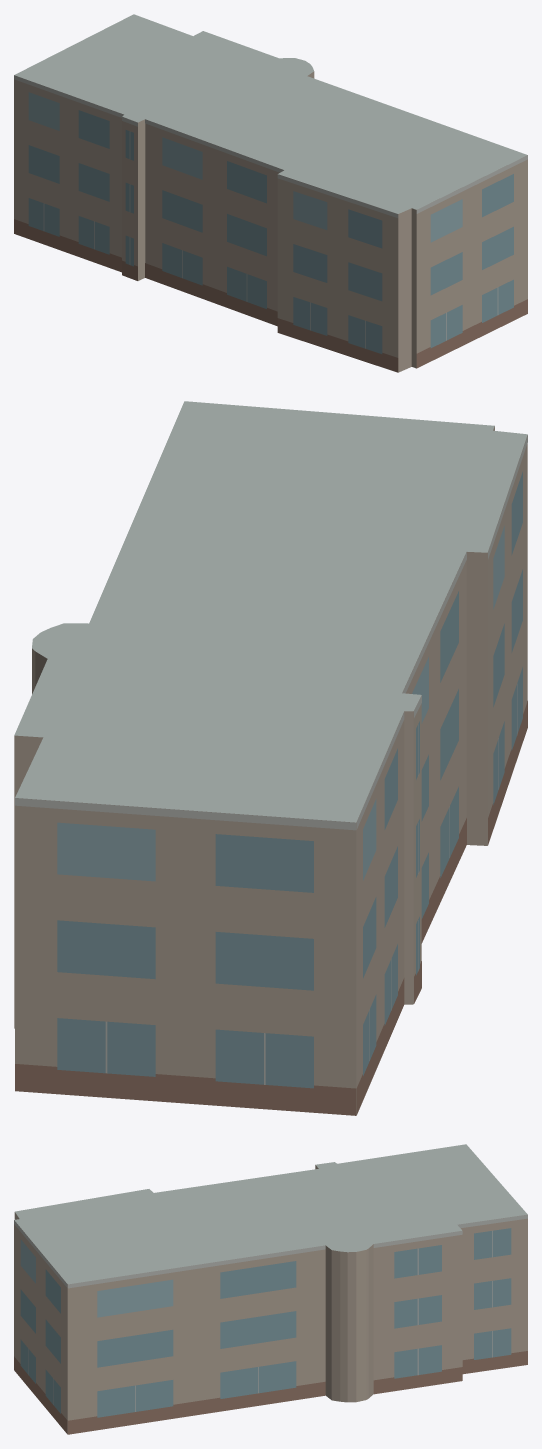
The model's file is survey-upis-32987989.glb.
3 views of the same model, one above another, from view 1: azimuth 30°, elevation 25°; view 2: azimuth 150°, elevation 25°; view 3: azimuth 270°, elevation 25° (orthographic). The views are drawn at different scales.
Parts seen in each view (by area): view 1: survey-upis-32987989.tmp; view 2: survey-upis-32987989.tmp; view 3: survey-upis-32987989.tmp.
Part boxes in pixels (x1,y1,x2,y2): survey-upis-32987989.tmp: (14,14,527,372); survey-upis-32987989.tmp: (14,401,527,1115); survey-upis-32987989.tmp: (14,1144,527,1434).
Size of the model in its own units: 18.33 by 9.15 by 28.37.
